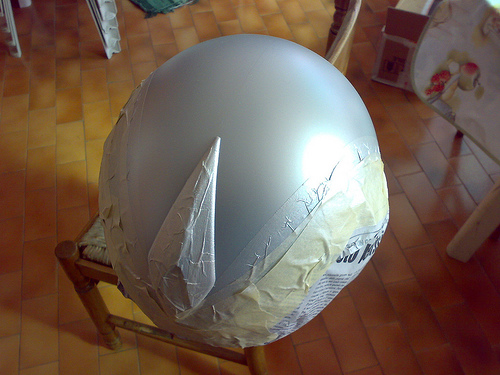helmet: (89, 42, 400, 326)
